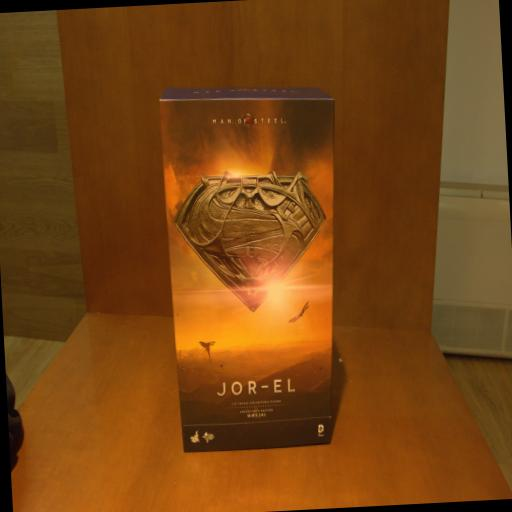superman: (158, 76, 350, 458)
